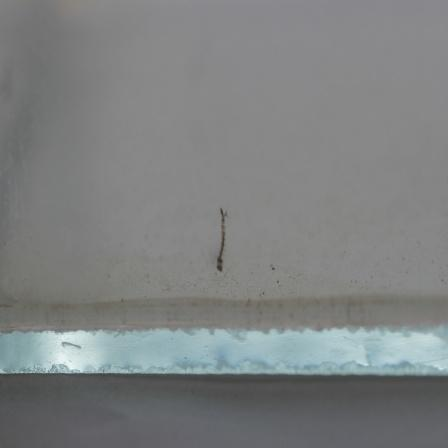Jentik-Nyamuk: (210, 204, 234, 275)
